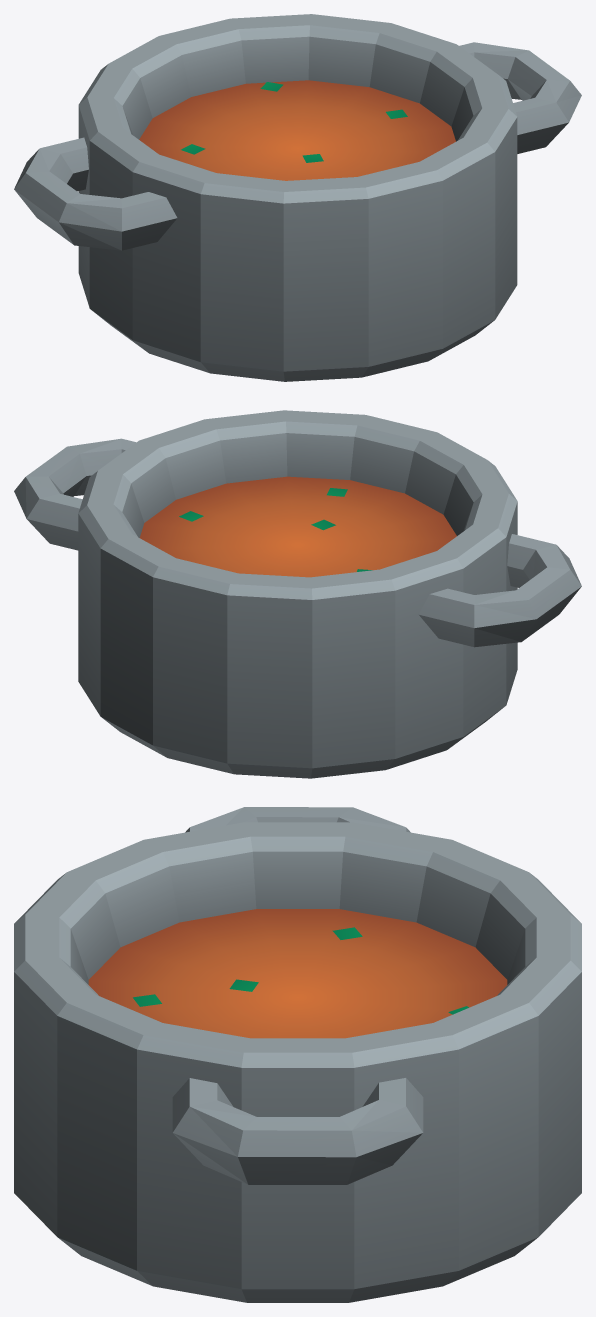
The model's file is StewPotEmpty.obj.
The picture shows the model from 3 angles, top to bottom: view 1: azimuth 30°, elevation 25°; view 2: azimuth 150°, elevation 25°; view 3: azimuth 270°, elevation 25°; orthographic projection. The views are drawn at different scales.
Visible parts, largest first — view 1: Cylinder.231; view 2: Cylinder.231; view 3: Cylinder.231.
Part boxes in pixels (box(x1,y1,x2,y2)): Cylinder.231: box(14, 14, 581, 381); Cylinder.231: box(14, 410, 581, 778); Cylinder.231: box(14, 807, 581, 1302).
Bounding box in the file's own units: 1.4 × 0.5 × 1.
Materials: 1 (1 with a texture image).
